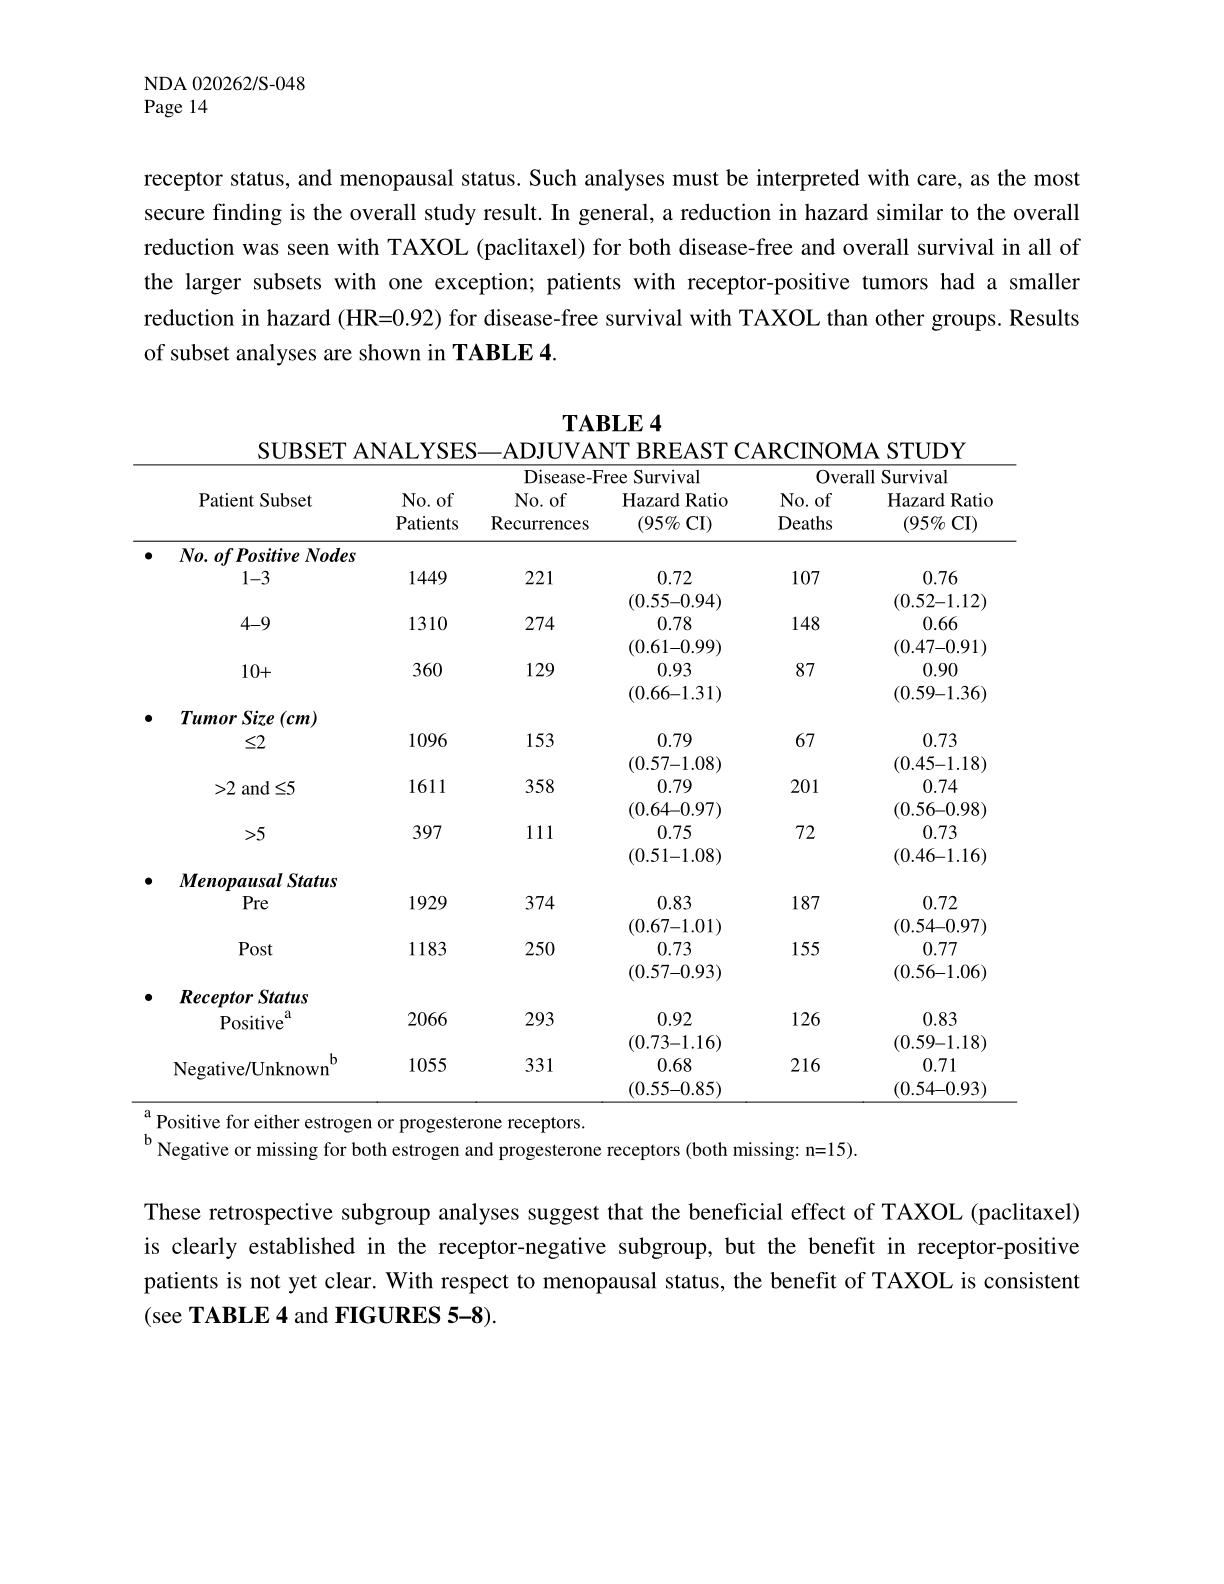partial_lined_merged_cells: (131, 463, 1020, 1104)
